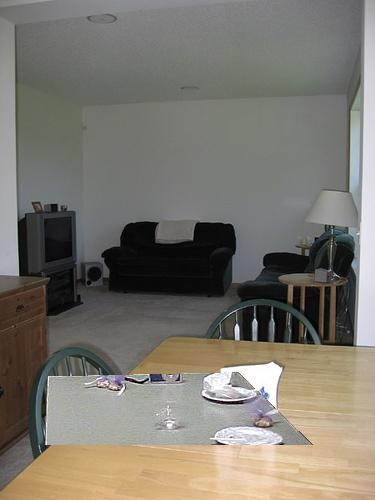tampered: (45, 373, 313, 445)
